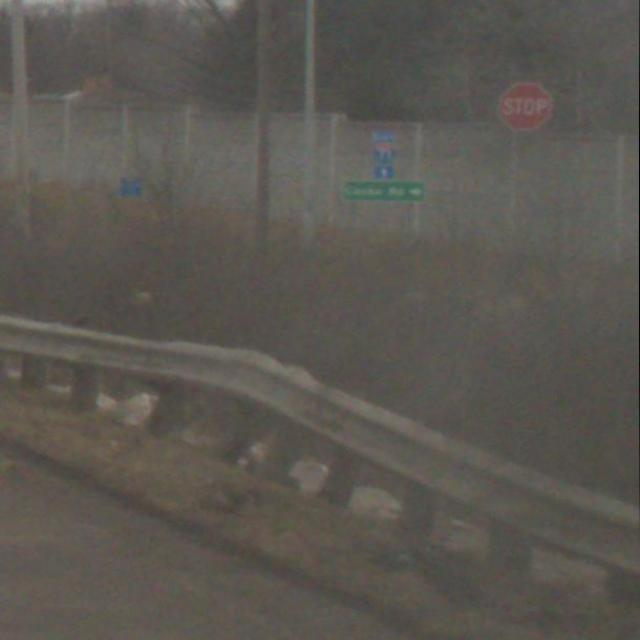Guard rail: (0, 307, 640, 621)
